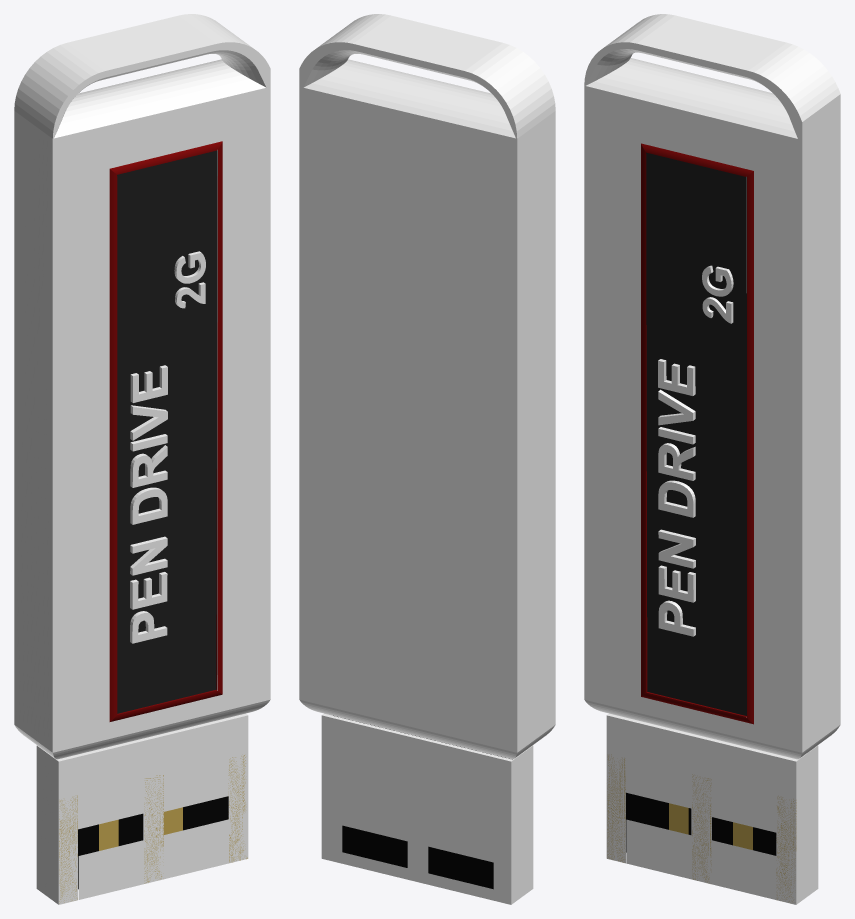
3 views of the same model, side by side, from view 1: azimuth 30°, elevation 25°; view 2: azimuth 150°, elevation 25°; view 3: azimuth 330°, elevation 25° (orthographic).
Parts seen in each view (by area): view 1: pen drive g usb; view 2: pen drive g usb; view 3: pen drive g usb.
Part boxes in pixels (box(x1,y1,x2,y2)): pen drive g usb: box(14, 14, 270, 904); pen drive g usb: box(299, 14, 555, 904); pen drive g usb: box(584, 14, 840, 904).
Bounding box in the file's own units: 121 × 440 × 40.11.
